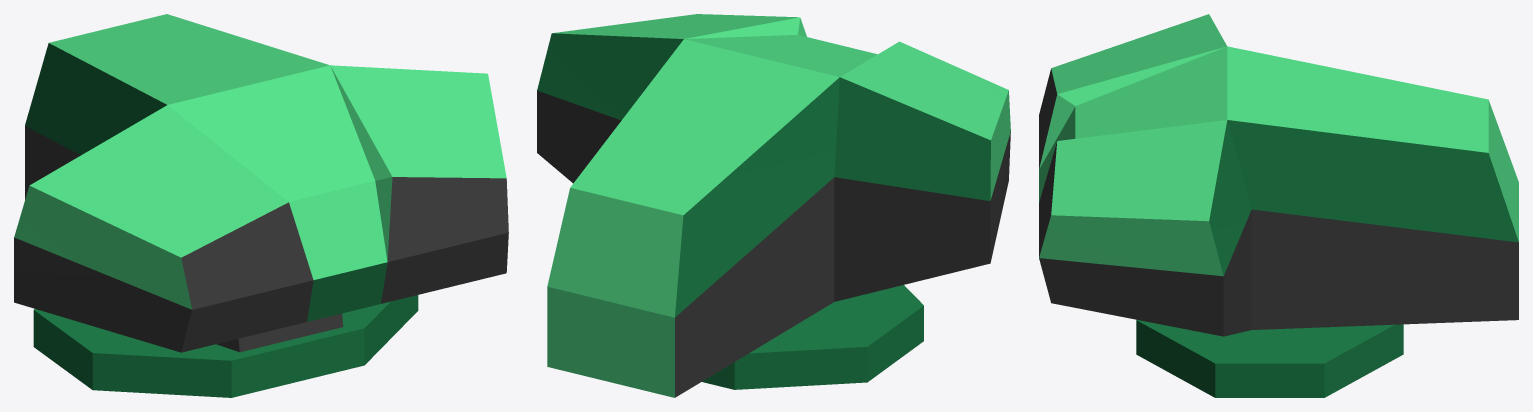
File: BodyTop.FBX
The picture shows the model from 3 angles, left to right: view 1: azimuth 30°, elevation 25°; view 2: azimuth 150°, elevation 25°; view 3: azimuth 270°, elevation 25°; orthographic projection. The views are drawn at different scales.
Visible parts, largest first — view 1: VIFS003, VIFS001, VIFS002; view 2: VIFS003, VIFS002, VIFS001; view 3: VIFS003, VIFS002, VIFS001.
Boxes of the visible parts, x1=… form: VIFS003: x1=14, y1=14, x2=506, y2=309; VIFS001: x1=14, y1=126, x2=508, y2=352; VIFS002: x1=25, y1=43, x2=418, y2=397; VIFS003: x1=547, y1=14, x2=1010, y2=397; VIFS002: x1=537, y1=33, x2=990, y2=389; VIFS001: x1=537, y1=90, x2=1010, y2=397; VIFS003: x1=1039, y1=14, x2=1518, y2=276; VIFS002: x1=1136, y1=120, x2=1518, y2=397; VIFS001: x1=1039, y1=68, x2=1518, y2=336.
Bounding box in the file's own units: 0.5324 × 0.28 × 0.5048.
